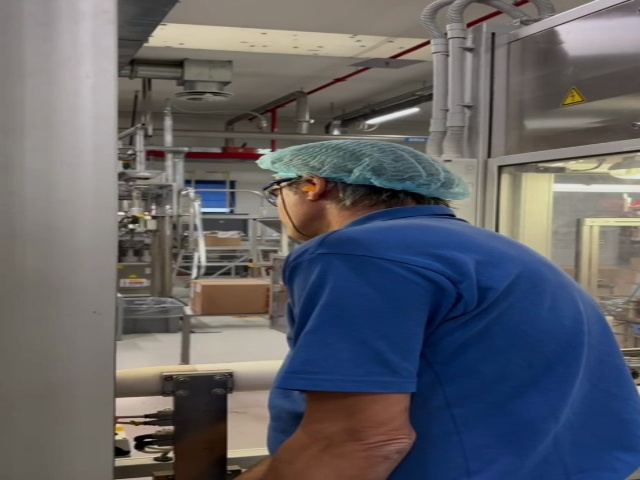Earplug: (296, 177, 327, 203)
Hairnet: (266, 136, 469, 200)
No_Helmet: (263, 136, 466, 191)
No_Vest: (283, 226, 640, 480)
Person: (261, 135, 640, 480)
Safety_Goggles: (261, 175, 303, 209)
